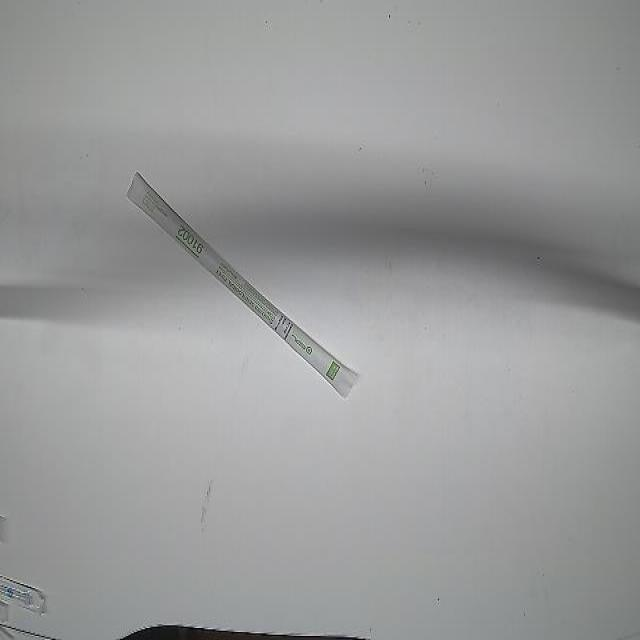Serelogical Pipet 2 mL: (124, 166, 361, 400)
